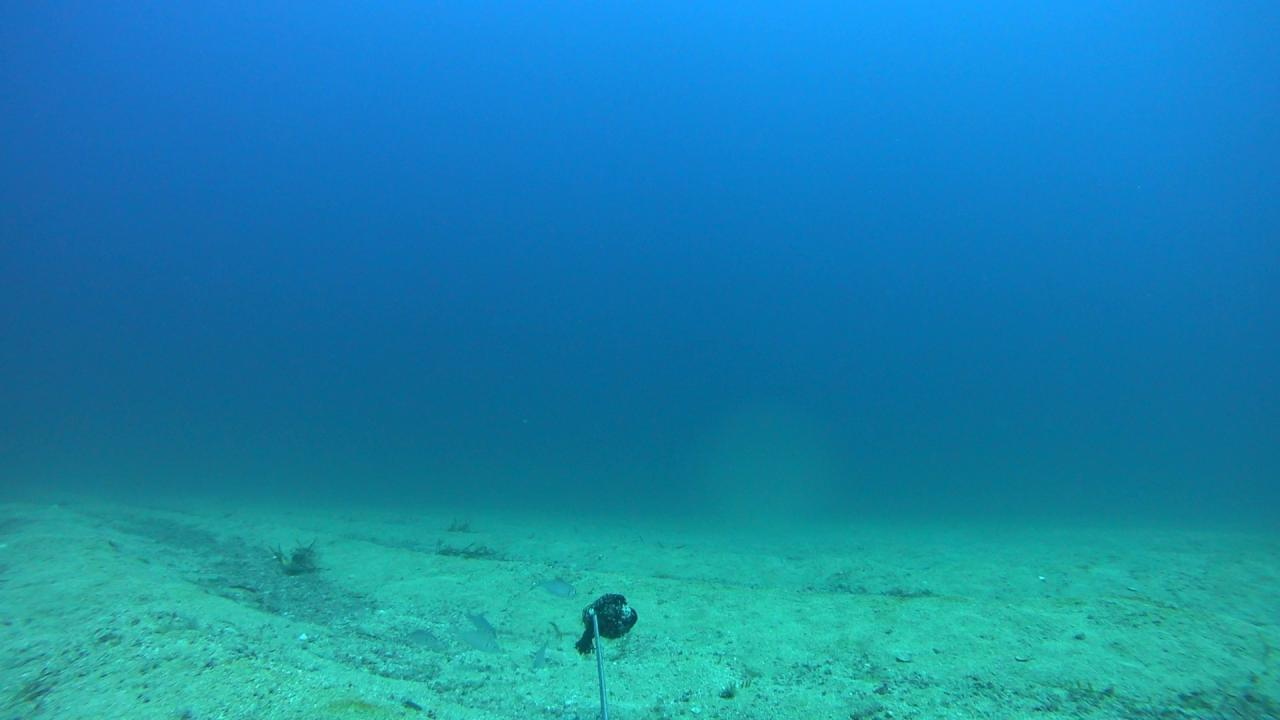pagellus: (444, 623, 502, 657), (528, 574, 578, 600), (464, 608, 502, 639), (397, 626, 440, 652)
